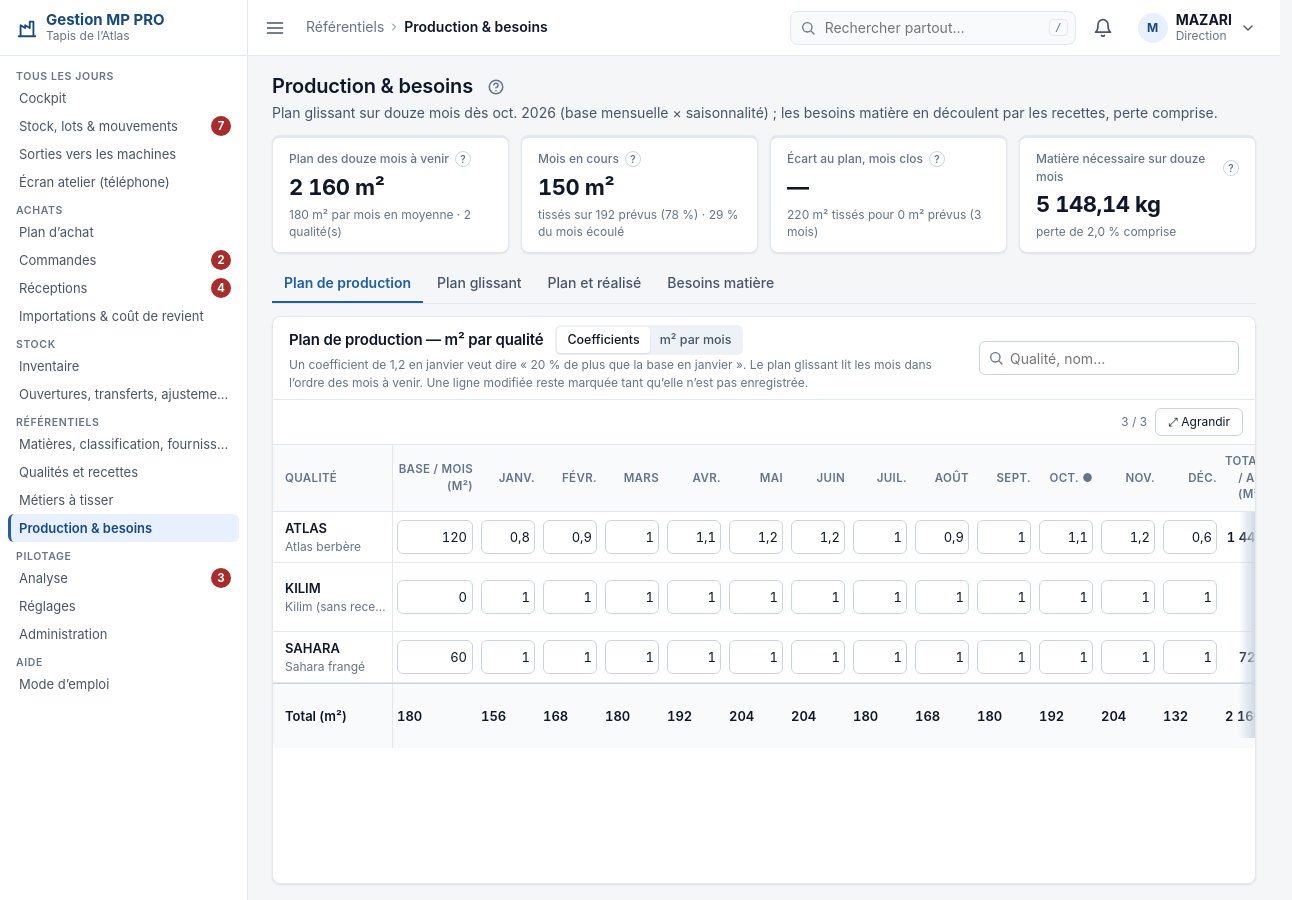
Production › Plan de production › direction : un coefficient hors de 0 à 20 grise l’enregistrement, avec la raison
(page scrolled)
Clear the field named "ATLAS, coefficient de Janv." at (508, 537), box [481, 520, 535, 554]
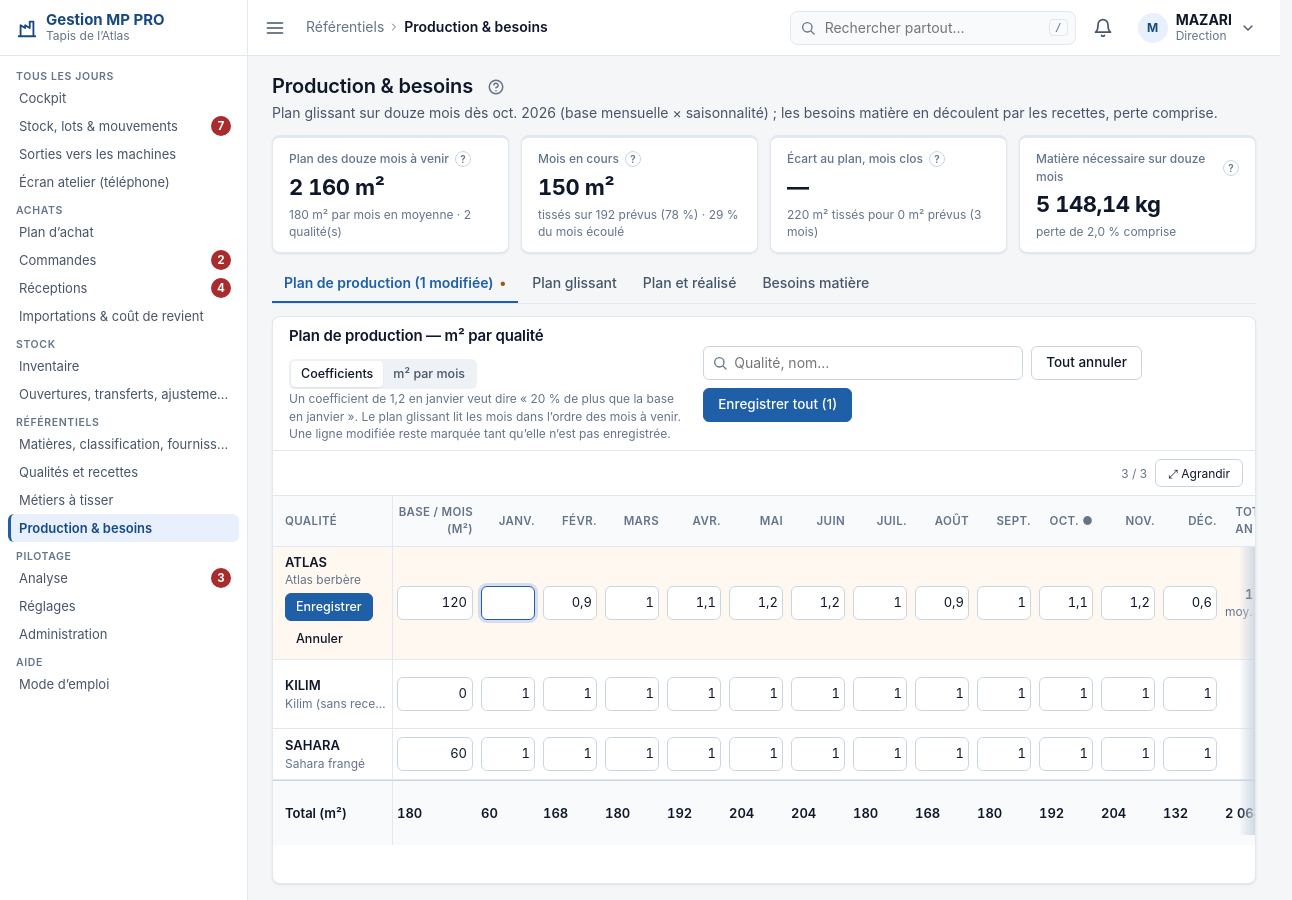
Type "25" into the field named "ATLAS, coefficient de Janv.".
click(508, 603); type("25")  # box [481, 586, 535, 620]
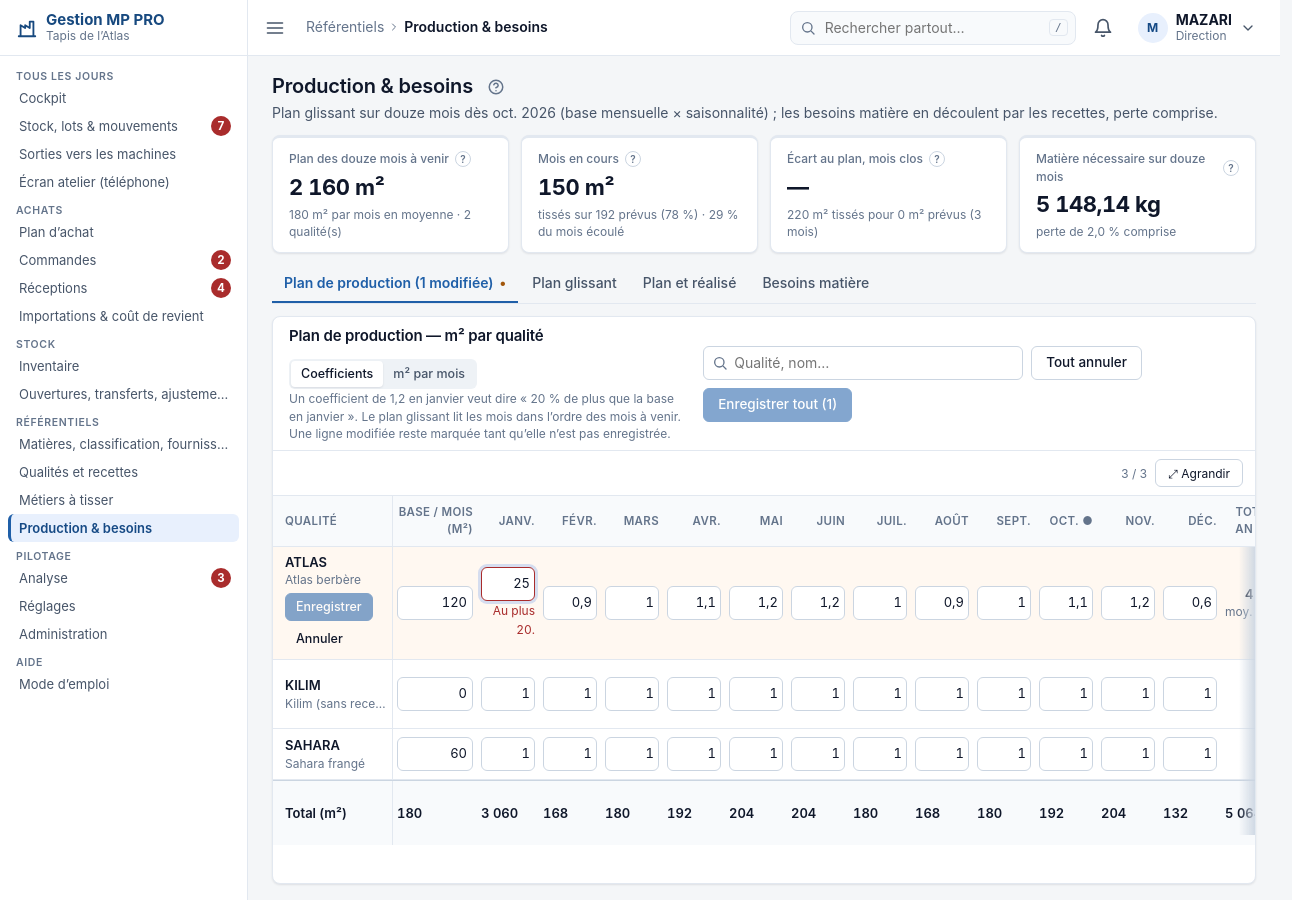
Expected: the button "Enregistrer tout (1)" is disabled, [703, 388, 852, 422]
Note: La saisie survit au changement d'onglet, et l'onglet le dit.
Click the tab "Plan glissant".
click(574, 284)  # box [520, 265, 629, 303]
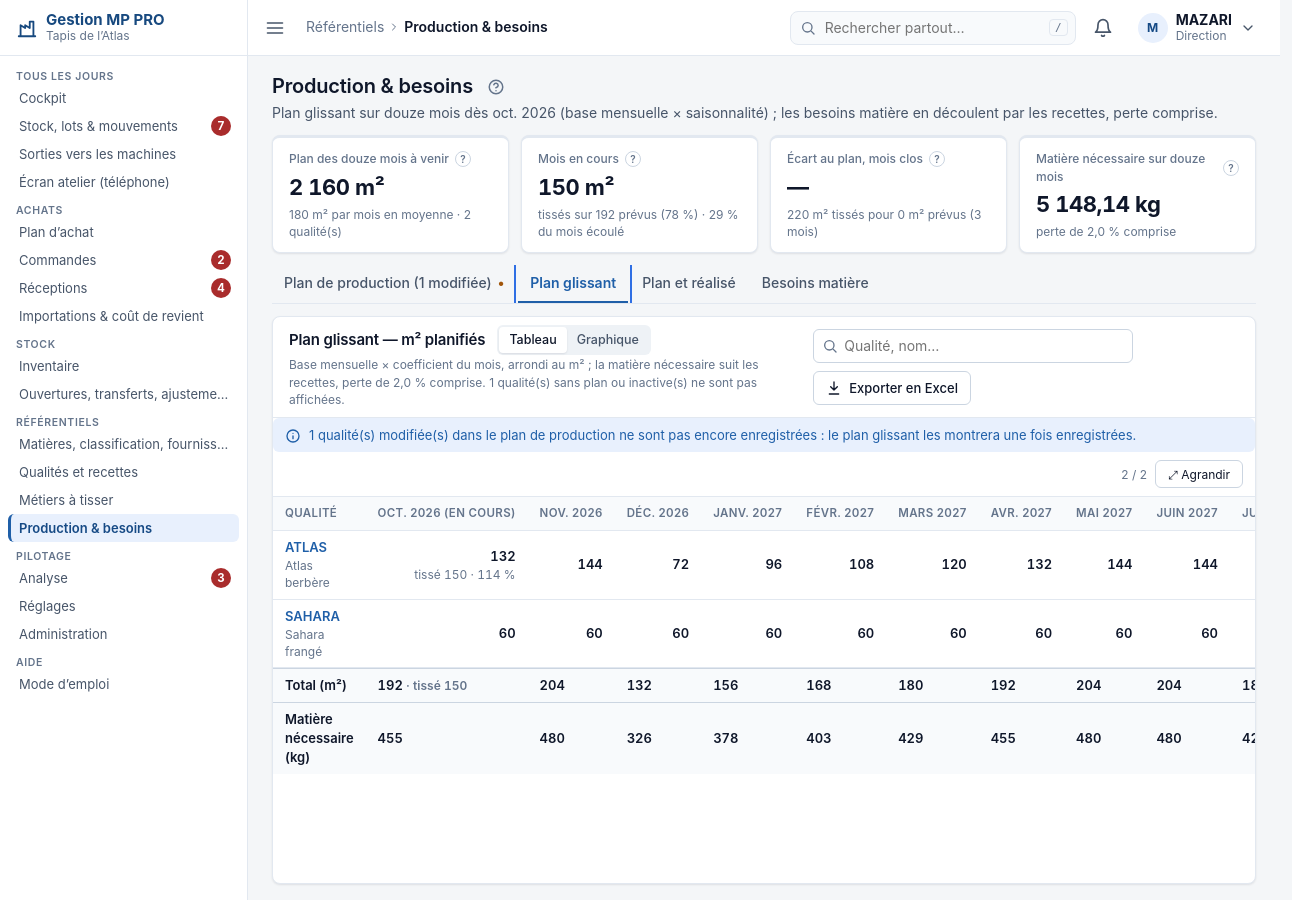
Expected: the text "1 qualité(s) modifiée(s) dans le plan de production" is shown, [309, 426, 1136, 444]
Click the tab "Plan de production (1 modifiée) •".
click(394, 284)  # box [272, 265, 516, 303]
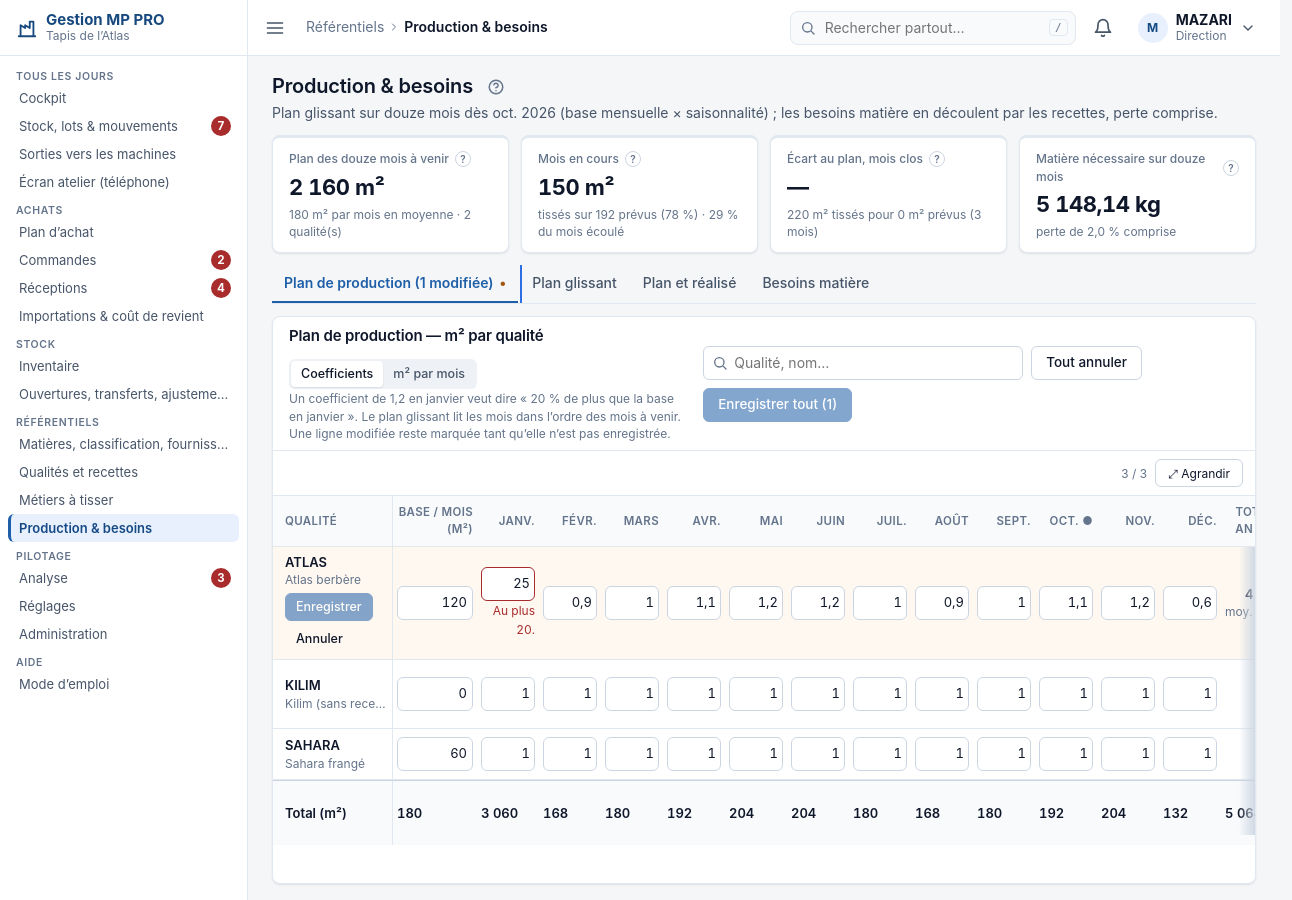
Expected: the field named "ATLAS, coefficient de Janv." holds "25", [481, 567, 535, 601]
